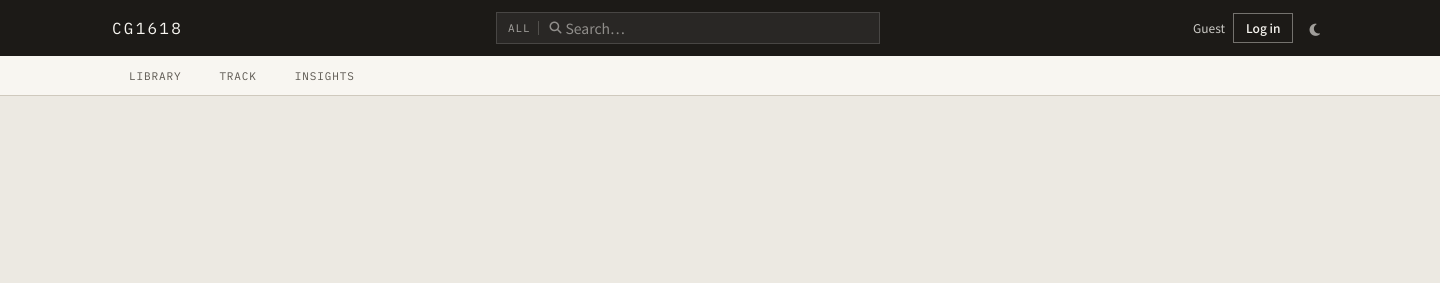
Test: Nav panels › opens a panel on click and closes it on a second click
Click the button "Track" at (238, 76), box [202, 56, 274, 96]
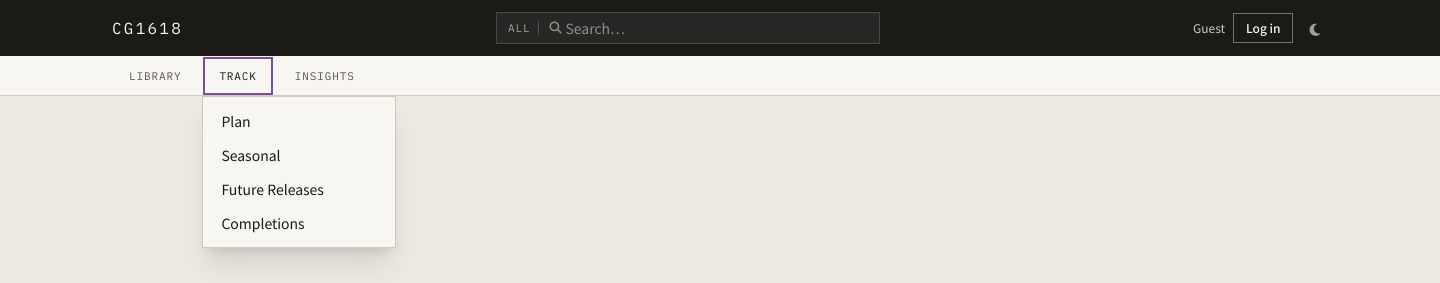
Check: the button "Track" is expanded
Check: the link "Plan" is shown, box [221, 111, 251, 131]
Click the button "Track" at (238, 76), box [202, 56, 274, 96]
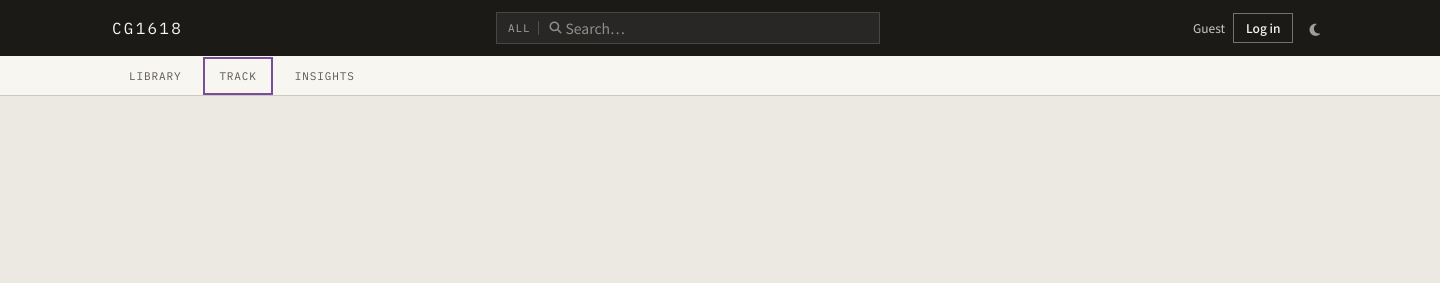
Check: the button "Track" is collapsed, box [202, 56, 274, 96]
